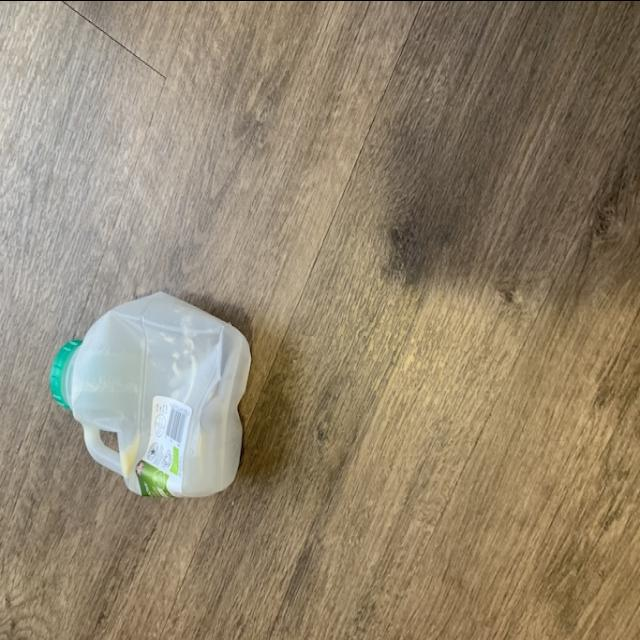litter: (46, 288, 257, 502)
